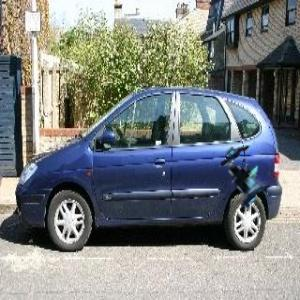drone: (174, 131, 291, 248)
